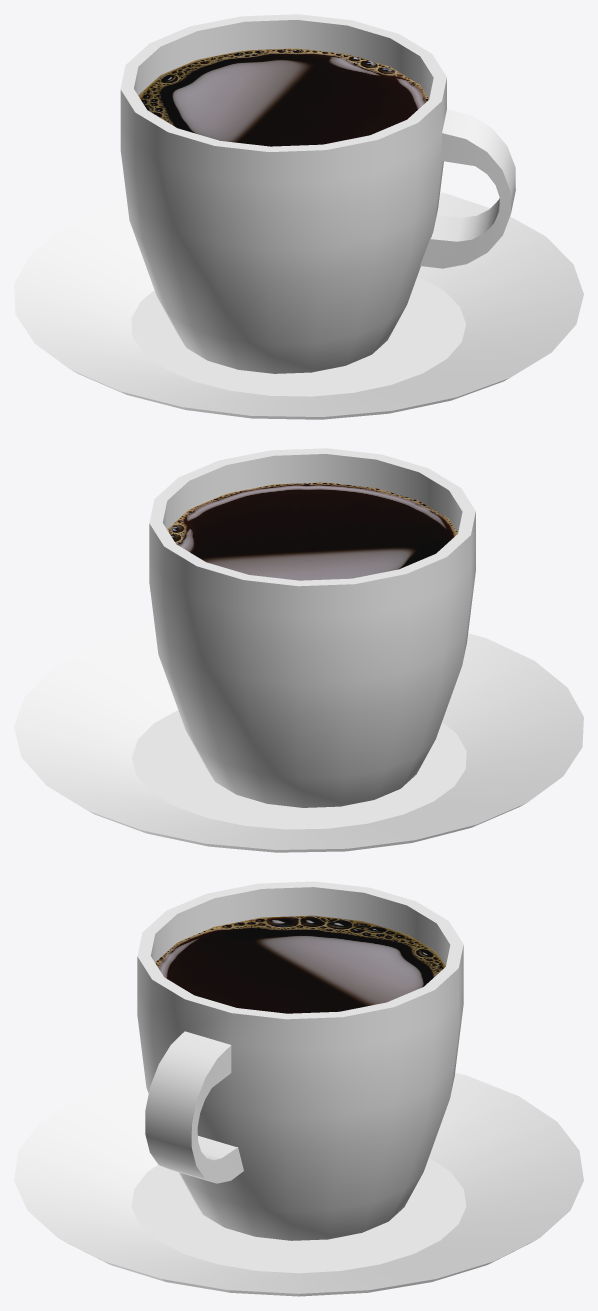
File: Coffee BB.obj
3 views of the same model, one above another, from view 1: azimuth 30°, elevation 25°; view 2: azimuth 150°, elevation 25°; view 3: azimuth 270°, elevation 25° (orthographic).
Parts seen in each view (by area): view 1: Coffee BB; view 2: Coffee BB; view 3: Coffee BB.
Boxes of the visible parts, x1,y1,x2,y2 form: Coffee BB: (14, 14, 583, 419); Coffee BB: (14, 448, 583, 852); Coffee BB: (14, 881, 583, 1296).
Size of the model in its own units: 0.1866 by 0.097 by 0.187.
1 material, 1 textured.
